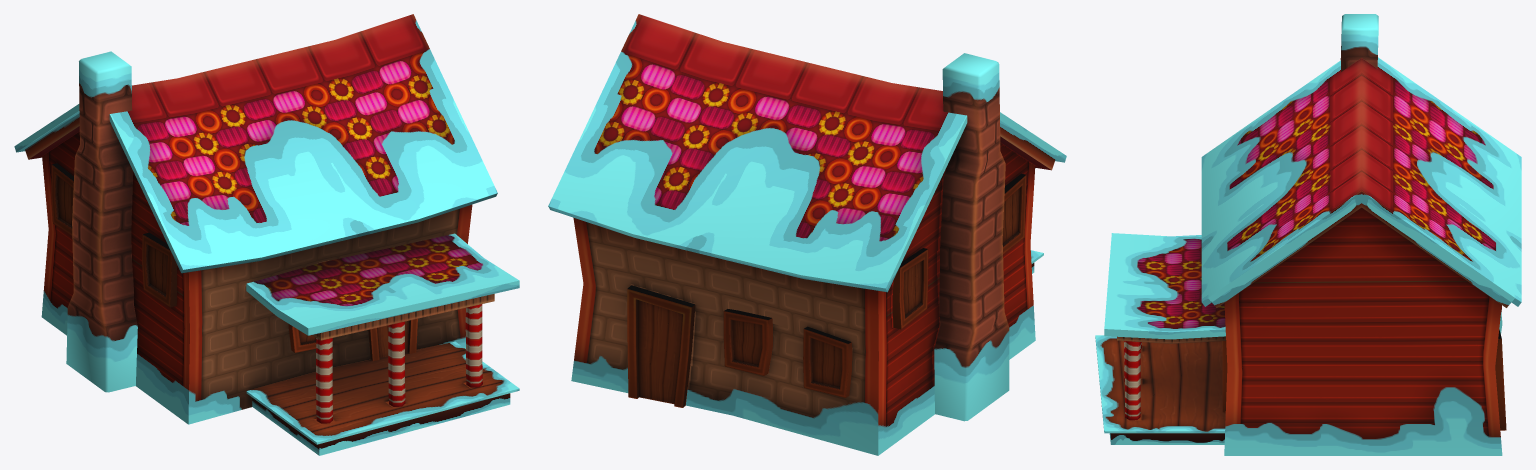
File: House9.FBX
3 renders of one model, left to right at view 1: azimuth 30°, elevation 25°; view 2: azimuth 150°, elevation 25°; view 3: azimuth 270°, elevation 25°, orthographic. The views are drawn at different scales.
Visible parts, largest first — view 1: House9; view 2: House9; view 3: House9.
Part boxes in pixels (left/top/right/bottom): House9: left=14, top=14, right=519, bottom=455; House9: left=548, top=14, right=1066, bottom=455; House9: left=1095, top=14, right=1521, bottom=455.
Size of the model in its own units: 179 by 165 by 214.
1 material, 1 textured.
